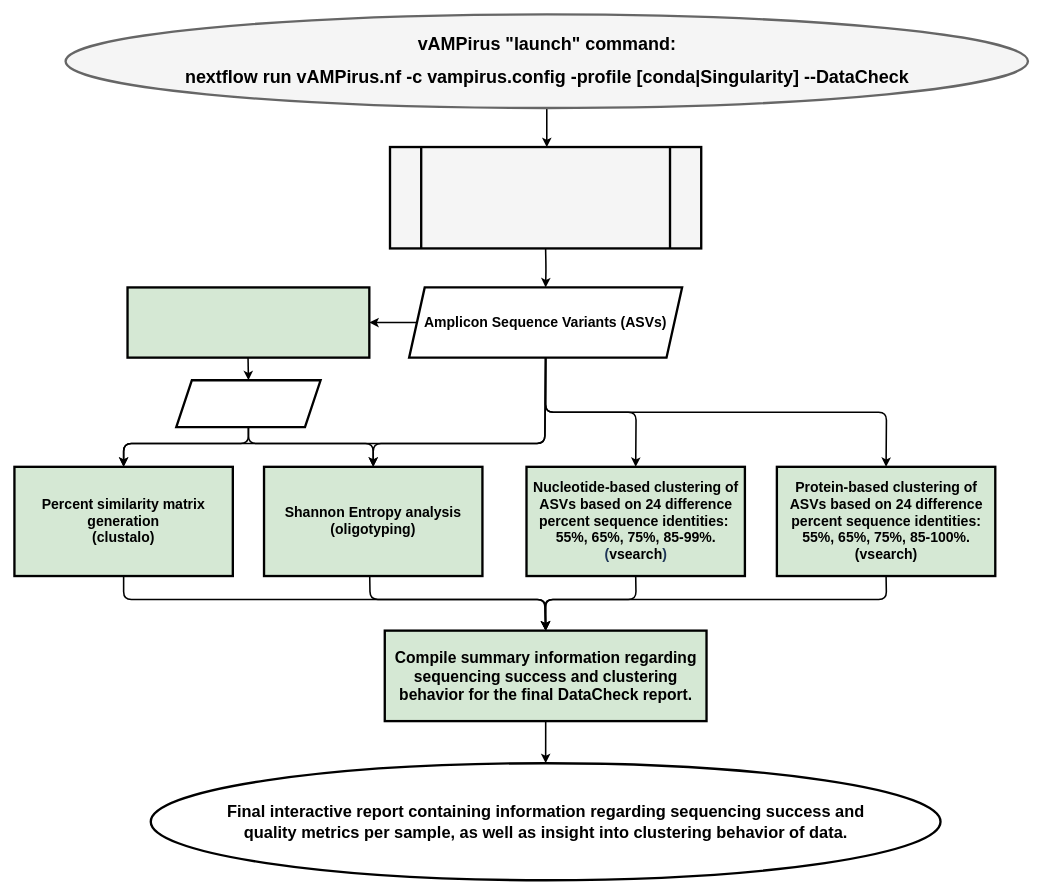
Image size: 1043x895. Some labels were removed from this diagram. Each missing label, with the centre of its shape:
AminoType generation ( VirtualRibosomeV2 ;CD-HIT): pixel 248 322
AminoTypes: pixel 248 403
Read Processing: pixel 545 197
